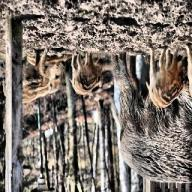boar: (110, 45, 191, 185), (2, 49, 65, 105), (146, 46, 185, 108), (69, 52, 103, 95)
